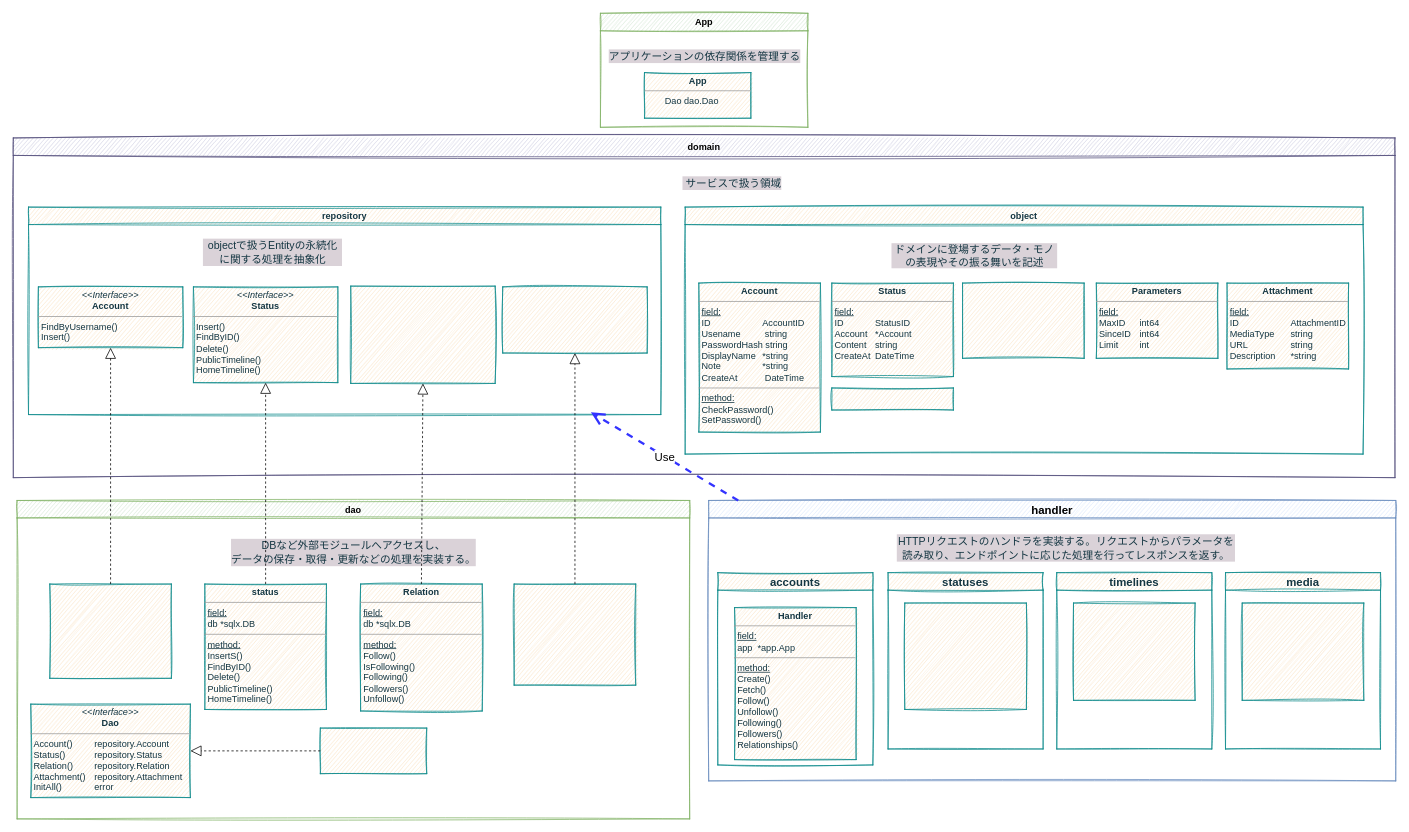
This 1409x832 diagram has some shape labels left out. Here are the shapes that lost their labels. From the top down, the centre of each, then its label:
At (422,334): "<<Interface>> Relation Follow() IsFollowing() Following Followers() Unfollow()".
At (574,319): "<<Interface>> Attachment Insert() FindByStatisID()".
At (1023,320): "RelationShip field: ID AccountID Following b ool FollowedBy bool".
At (892,398): "Timelines []Status".
At (110,630): "account field: db *sqlx.DB method: FindByUsername() Insert()".
At (574,634): "Attachment field: db *sqlx.DB method: Insert() FindByStatusID()".
At (965,655): "Handler field: app *app.App method: Post() Fetch() Delete()".
At (1134,651): "Handler field: app *app.App method: Public() Home()".
At (1302,651): "Handler field: app *app.App method: Upload()".
At (373,750): "dao db *sqlx.DB".
